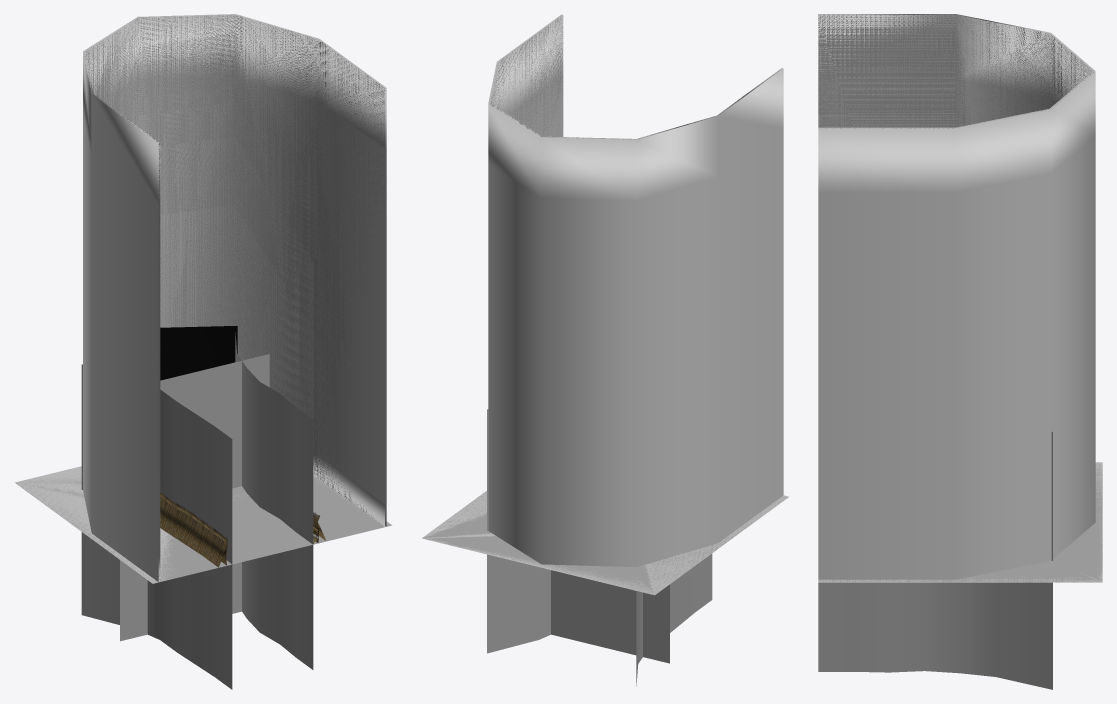
The model's file is goal1.fbx.
The picture shows the model from 3 angles, left to right: view 1: azimuth 30°, elevation 25°; view 2: azimuth 150°, elevation 25°; view 3: azimuth 270°, elevation 25°; orthographic projection. The views are drawn at different scales.
Visible parts, largest first — view 1: mdl_LOD0, col_o, col_w, mdl2_LOD0, col_p; view 2: mdl_LOD0, mdl2_LOD0, col_o, col_w, col_p; view 3: mdl_LOD0, mdl2_LOD0, col_o, col_w.
Boxes of the visible parts, <box> form: mdl_LOD0: <box>15,77,391,583</box>; col_o: <box>15,15,391,583</box>; col_w: <box>81,332,313,689</box>; mdl2_LOD0: <box>83,14,386,563</box>; col_p: <box>120,354,269,641</box>; mdl_LOD0: <box>422,77,788,595</box>; mdl2_LOD0: <box>488,14,783,200</box>; col_o: <box>423,15,787,594</box>; col_w: <box>487,409,712,686</box>; col_p: <box>551,570,669,663</box>; mdl_LOD0: <box>818,79,1102,582</box>; mdl2_LOD0: <box>818,14,1095,192</box>; col_o: <box>818,14,1102,582</box>; col_w: <box>818,432,1052,689</box>.
Size of what is drawn, in the model's own units: 1600 by 3600 by 1600.
